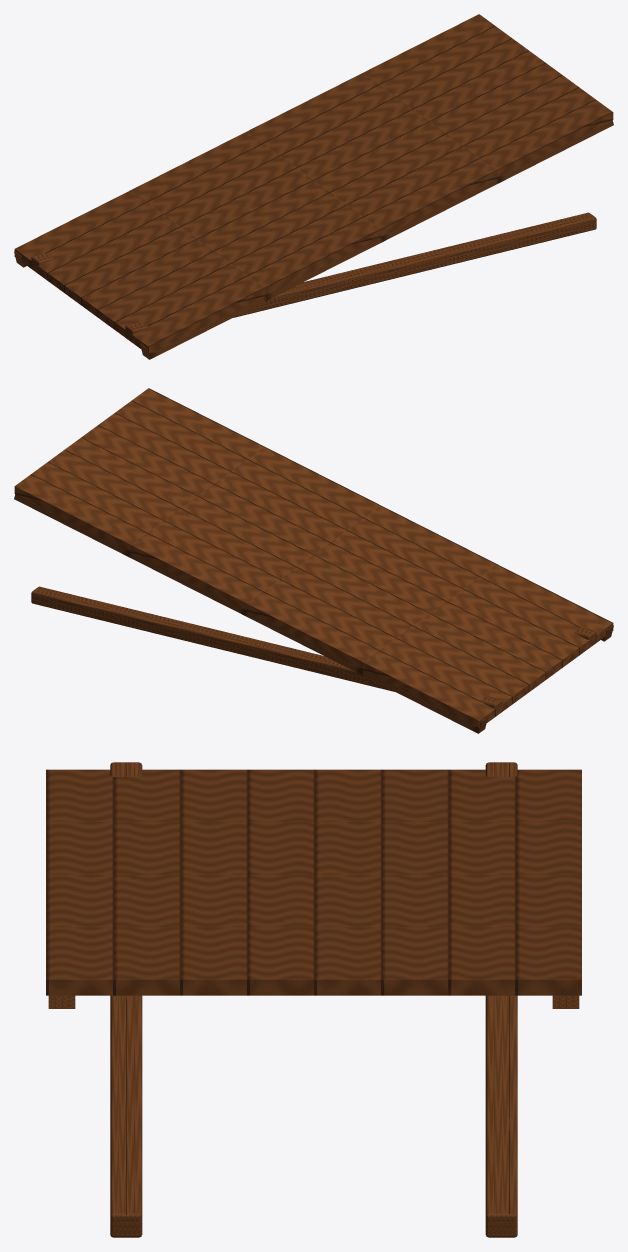
File: fortified-compound-expansion-checkpoint-roof-9b2b3f8f__27109.glb
3 renders of one model, top to bottom at view 1: azimuth 30°, elevation 25°; view 2: azimuth 150°, elevation 25°; view 3: azimuth 270°, elevation 25°, orthographic. The views are drawn at different scales.
Parts seen in each view (by area): view 1: checkpoint-roof; view 2: checkpoint-roof; view 3: checkpoint-roof.
Part boxes in pixels (x1,y1,x2,y2): checkpoint-roof: (14, 14, 613, 359); checkpoint-roof: (14, 388, 613, 733); checkpoint-roof: (46, 762, 581, 1237).
Size of the model in its own units: 4.02 by 1.11 by 2.
Materials: 1 (1 with a texture image).
